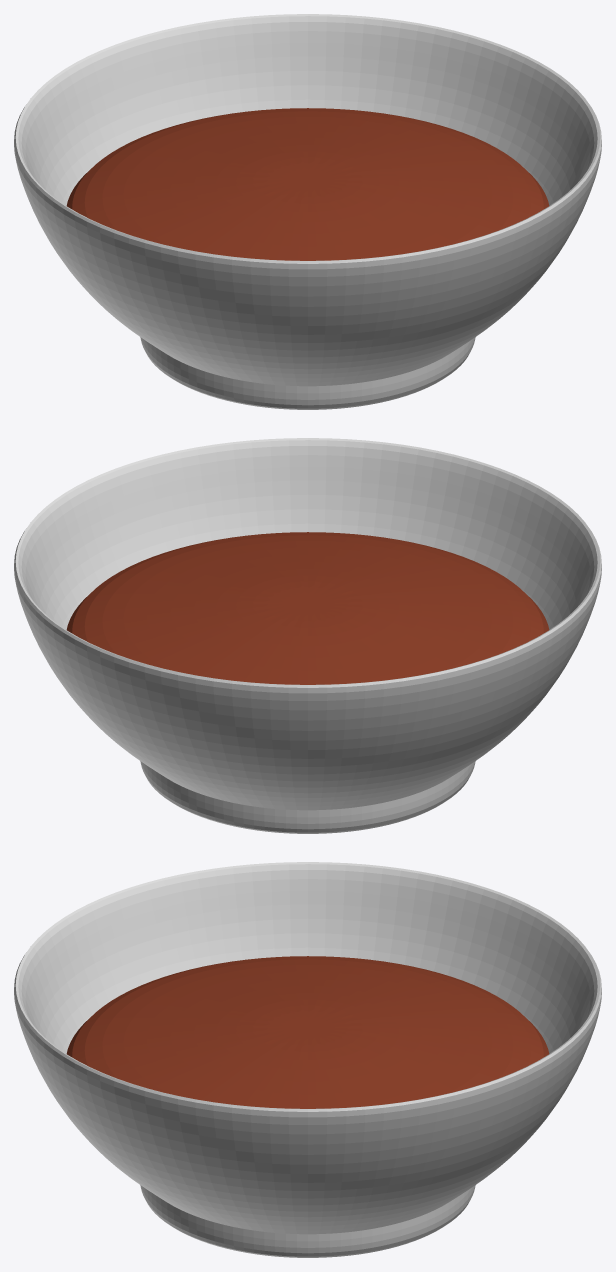
File: soy_sauce.fbx
3 views of the same model, one above another, from view 1: azimuth 30°, elevation 25°; view 2: azimuth 150°, elevation 25°; view 3: azimuth 270°, elevation 25° (orthographic).
Visible parts, largest first — view 1: 구체.006; view 2: 구체.006; view 3: 구체.006.
Part boxes in pixels (x1,y1,x2,y2): 구체.006: [14, 14, 601, 409]; 구체.006: [14, 438, 601, 833]; 구체.006: [14, 862, 601, 1257].
Size of the model in its own units: 191 by 73.37 by 191.
